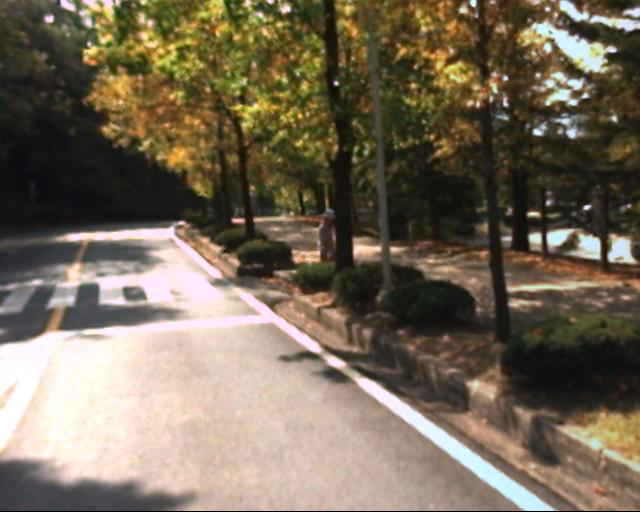person: (310, 194, 353, 289)
